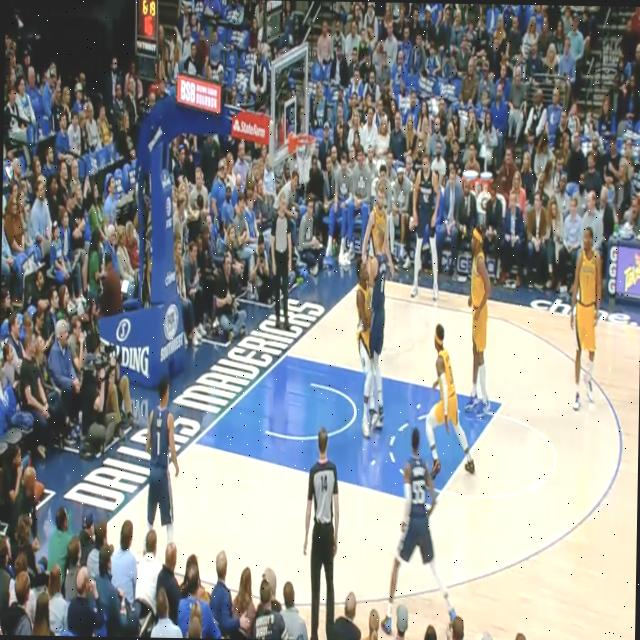Foul: (342, 241, 393, 440)
